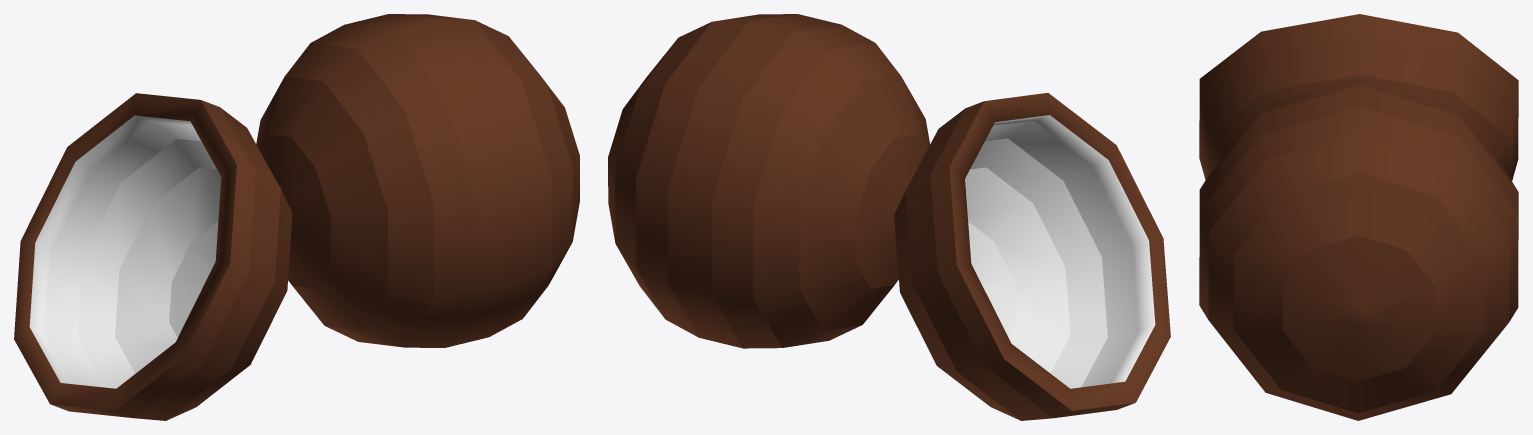
The model's file is Coconut.fbx.
3 renders of one model, left to right at view 1: azimuth 30°, elevation 25°; view 2: azimuth 150°, elevation 25°; view 3: azimuth 270°, elevation 25°, orthographic.
Parts seen in each view (by area): view 1: Circle.001, Circle; view 2: Circle.001, Circle; view 3: Circle.001, Circle.
Boxes of the visible parts, <box> form: Circle.001: <box>256,14,579,347</box>; Circle: <box>14,93,292,420</box>; Circle.001: <box>608,14,929,348</box>; Circle: <box>894,93,1170,420</box>; Circle.001: <box>1199,76,1518,420</box>; Circle: <box>1199,14,1518,180</box>.
Bounding box in the file's own units: 306 × 180 × 169.
